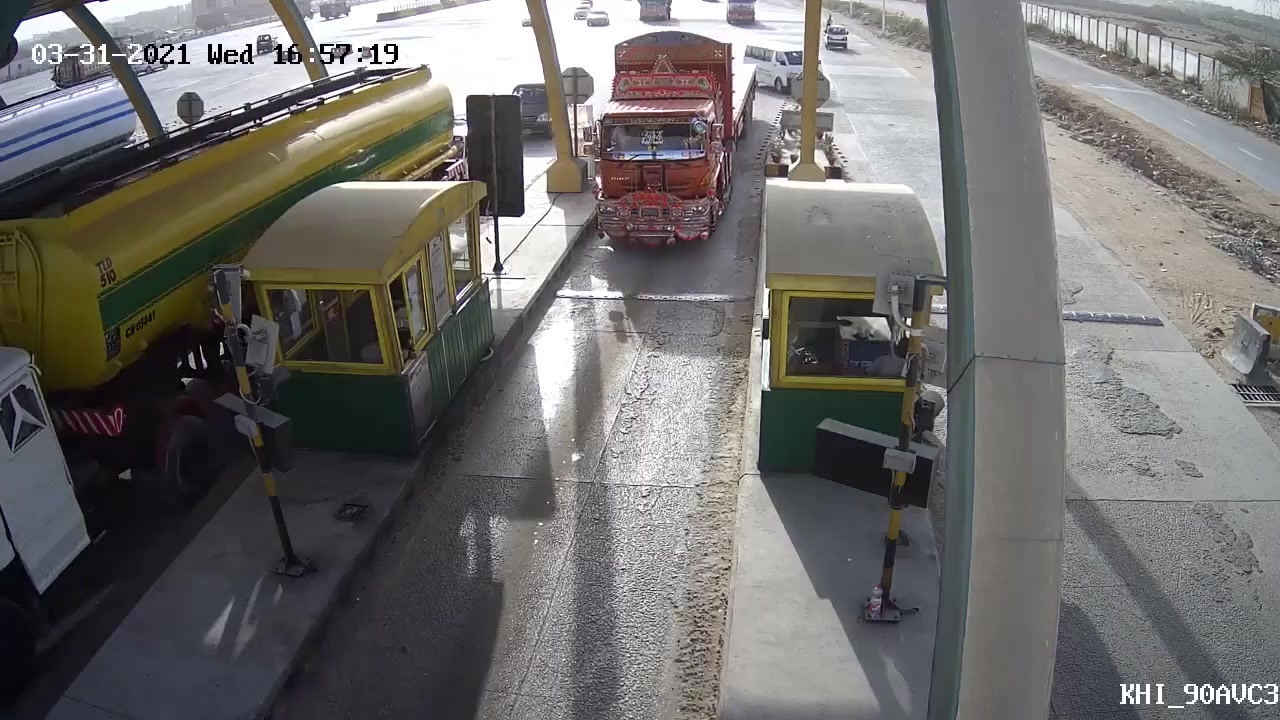F6: (582, 26, 764, 257)
